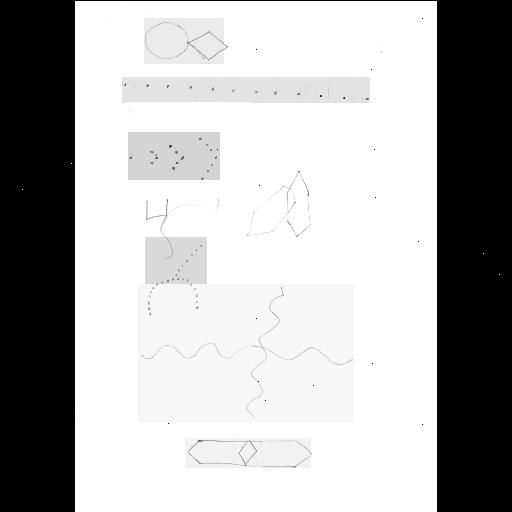shape-1: (144, 18, 224, 64)
shape-2: (122, 77, 370, 103)
shape-3: (126, 102, 250, 126)
shape-4: (128, 132, 220, 180)
shape-5: (136, 190, 222, 262)
shape-6: (145, 237, 207, 321)
shape-7: (138, 284, 354, 422)
shape-8: (248, 166, 312, 238)
shape-9: (185, 438, 311, 468)
